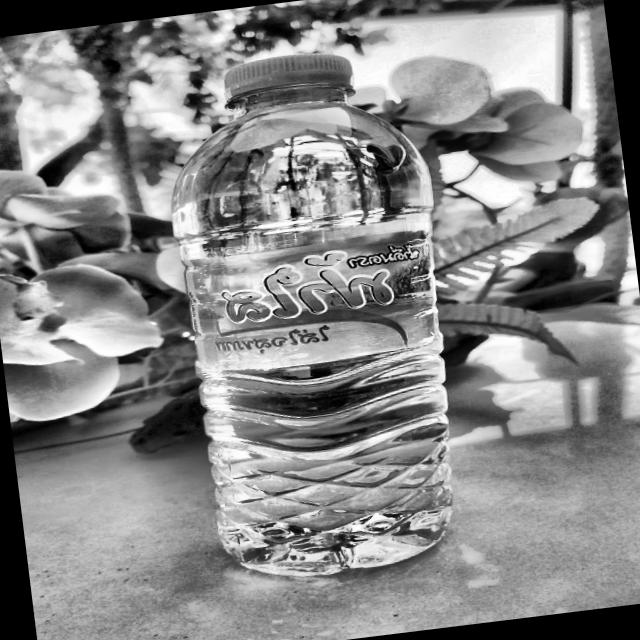waterbottle: (140, 28, 490, 606)
